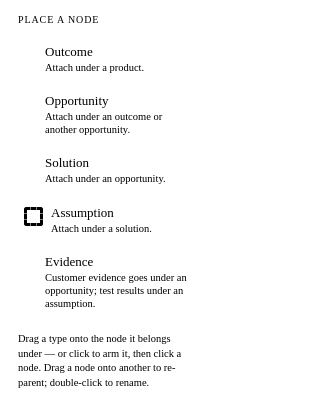
Scenario: NodePalette › click to arm › a click arms the type; clicking it again disarms; another type switches
The width and height of the screenshot is (320, 405).
What coordinates should you click on to do the following:
click the button with test id "ost-palette-solution"
I would click on:
 (107, 170)
Its box is 16,148 -> 198,192.
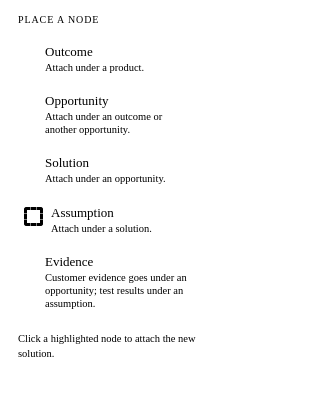
Result: the text with test id "ost-palette-hint" reads "Click a highlighted node to attach the new solution." at 18,333 -> 196,359
What coordinates should you click on to do the following:
click the button that starts with "Evidence"
I would click on:
 (107, 282)
Its box is 16,247 -> 198,317.
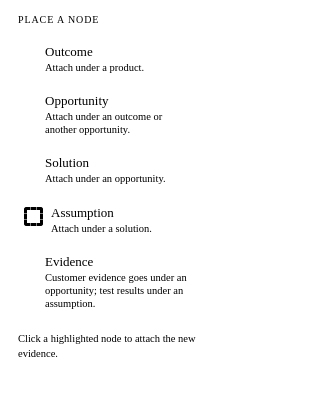
What coordinates should you click on to do the following:
click the button that starts with "Evidence"
I would click on:
 (107, 282)
Its box is 16,247 -> 198,317.
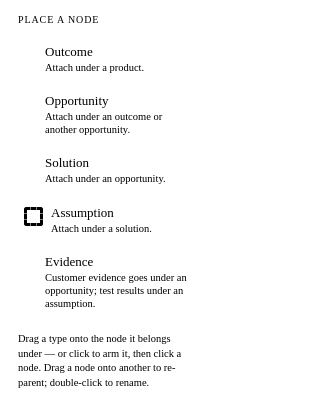
Result: the text with test id "ost-palette-hint" shows "Drag a type onto the node it belongs under" at 18,333 -> 181,388
